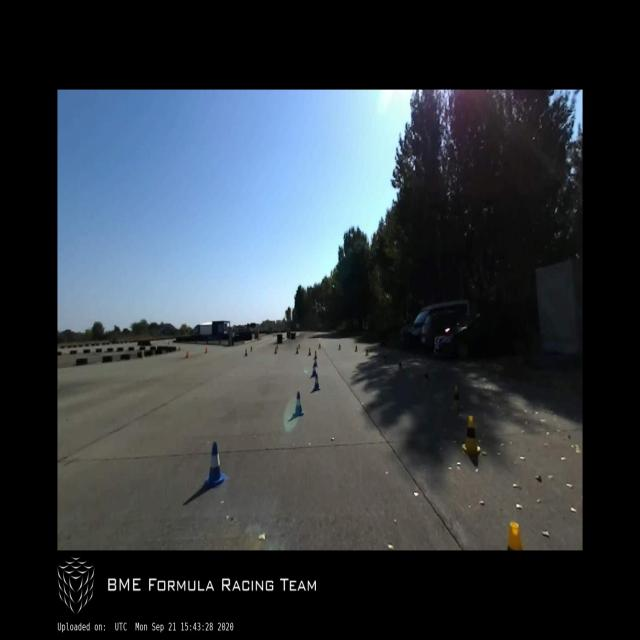blue_cone: (205, 442, 227, 487), (293, 392, 304, 416), (313, 375, 320, 389), (311, 365, 316, 377), (314, 358, 317, 367), (314, 351, 317, 359), (308, 348, 311, 355), (274, 347, 277, 354), (245, 349, 248, 356), (296, 347, 298, 354)
unknown_cone: (186, 350, 189, 358), (205, 347, 208, 353)
yellow_cone: (462, 416, 480, 454), (452, 386, 462, 410), (424, 370, 429, 384), (398, 360, 402, 370), (383, 353, 386, 362), (338, 344, 341, 350), (366, 349, 368, 356), (355, 346, 357, 352), (298, 344, 300, 349), (319, 344, 321, 348), (251, 347, 252, 351)
